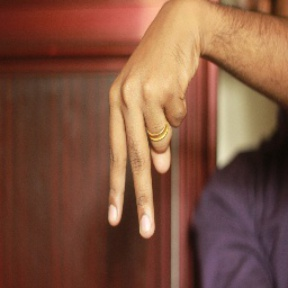Y: (101, 37, 192, 241)
